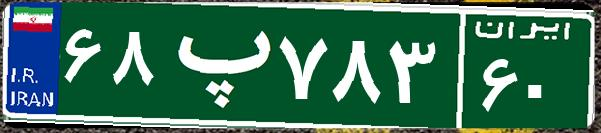0: (525, 38, 570, 115)
3: (385, 28, 445, 110)
6: (57, 26, 110, 107), (475, 38, 525, 113)
7: (273, 28, 330, 110)
8: (330, 28, 385, 110), (110, 28, 158, 105)
پ: (158, 15, 273, 115)
